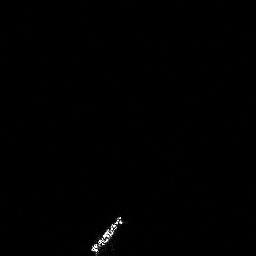ship: (86, 211, 129, 256)
